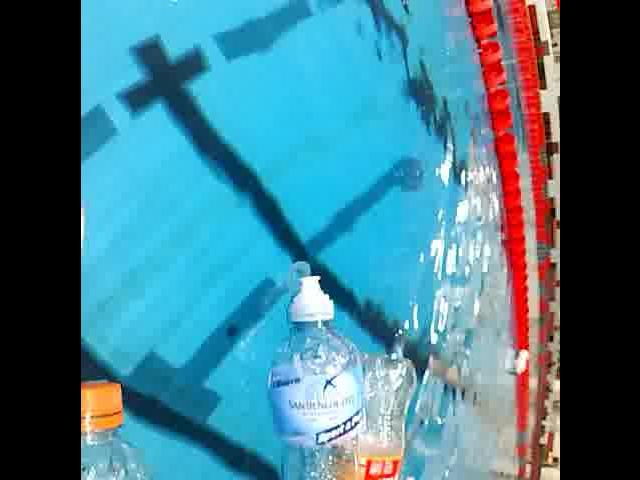Bottle: (264, 267, 366, 480), (80, 361, 172, 480), (341, 346, 419, 480)
